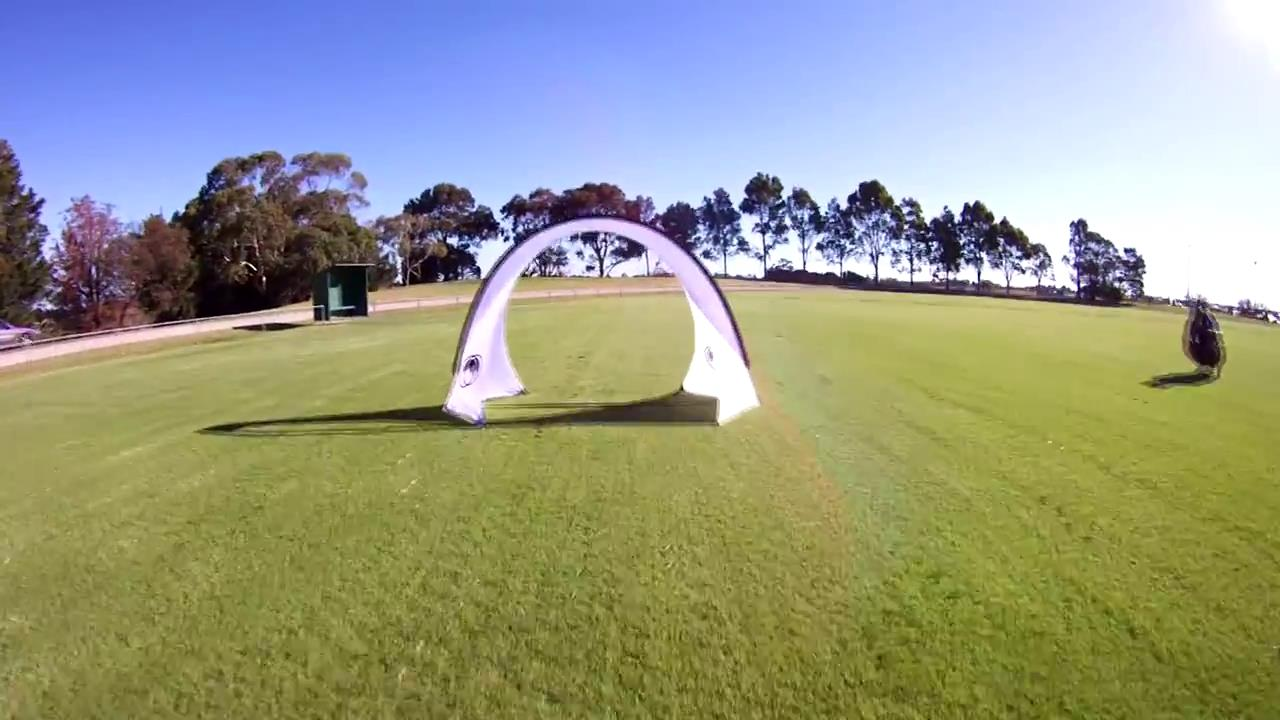gate: (435, 210, 765, 429)
